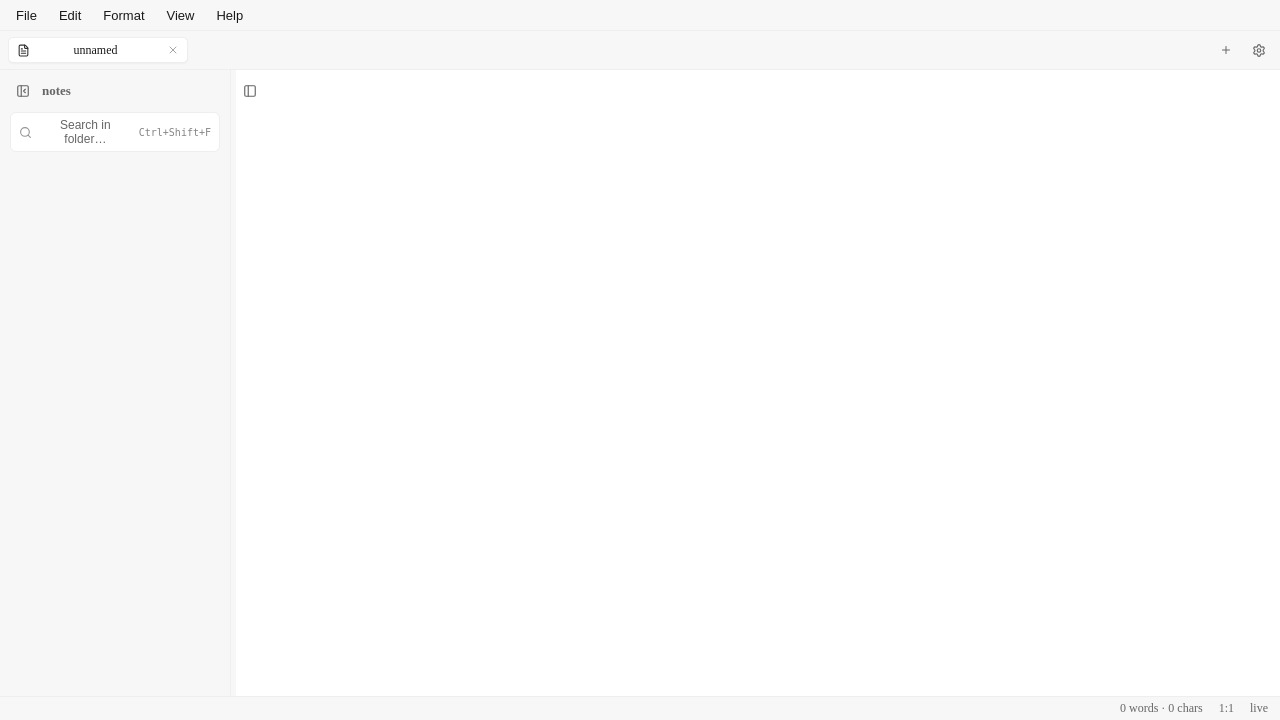
Scenario: quick open › opens via ⌘P, filters, and opens the chosen file
Press p
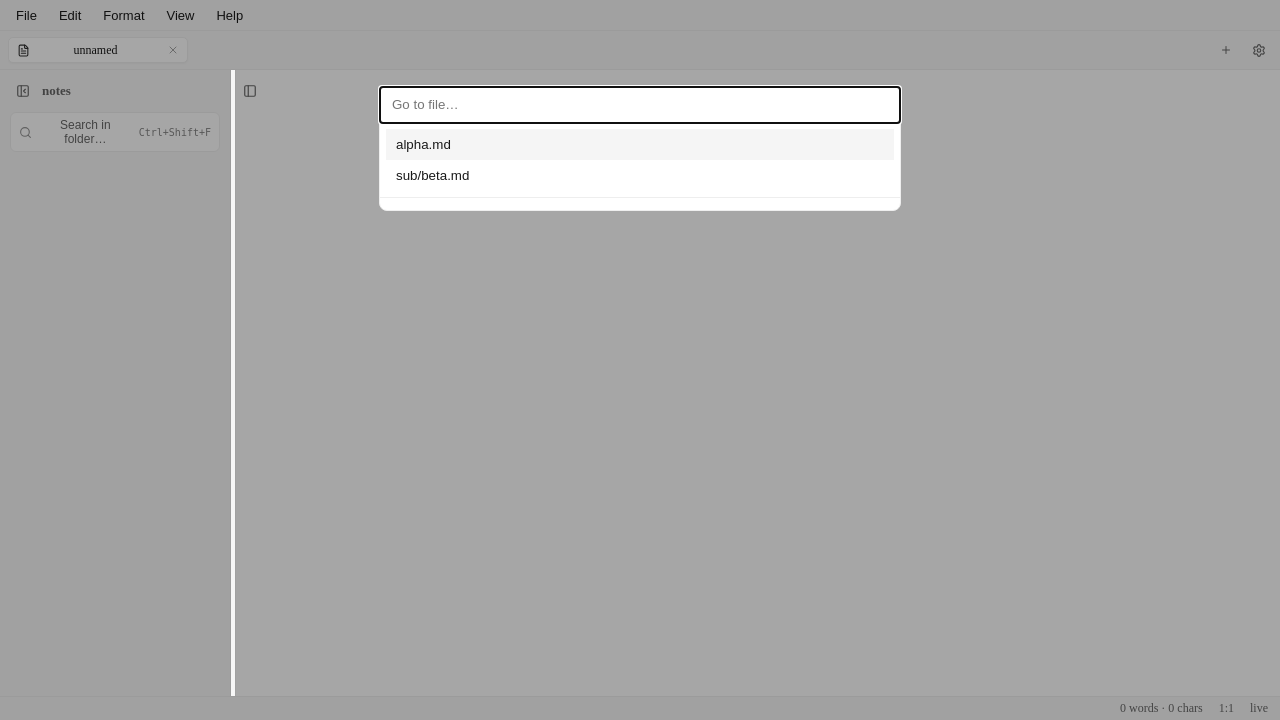
Type "beta" into the field labelled "Go to file…".
click(640, 105); type("beta")  # box [380,87,900,123]
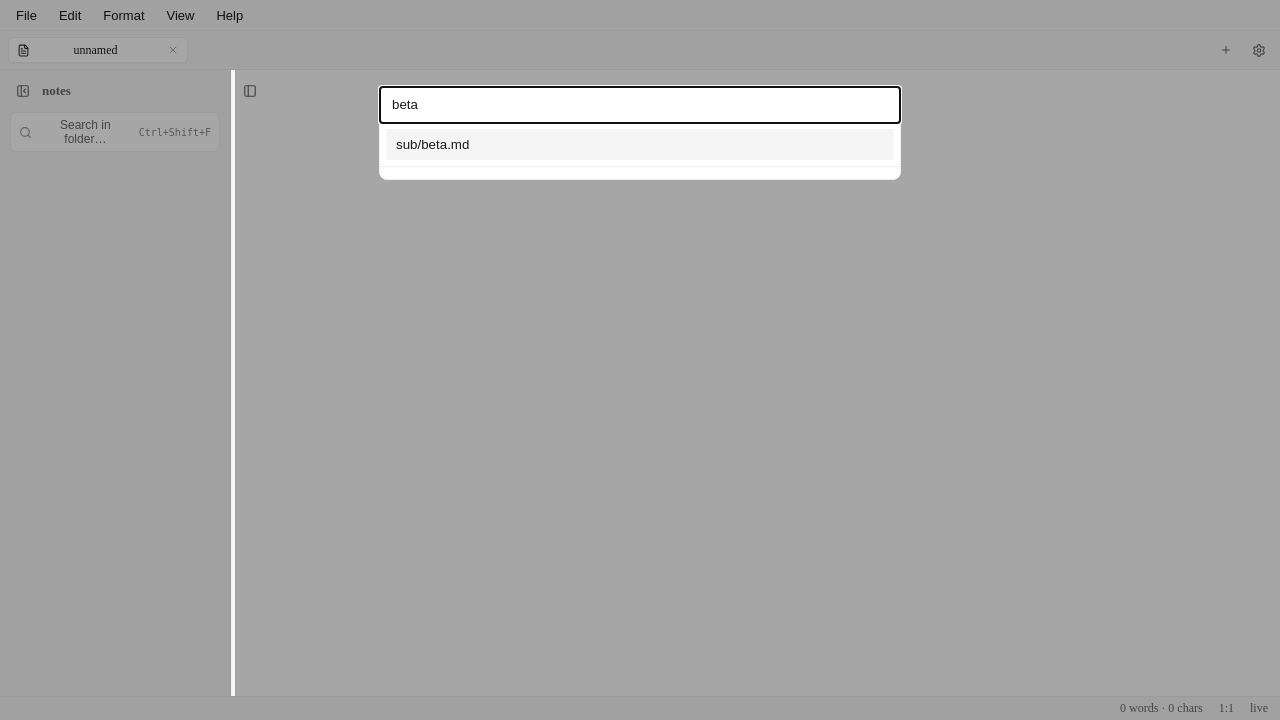
Press Enter in the field named "Go to file…", box [380,87,900,123]
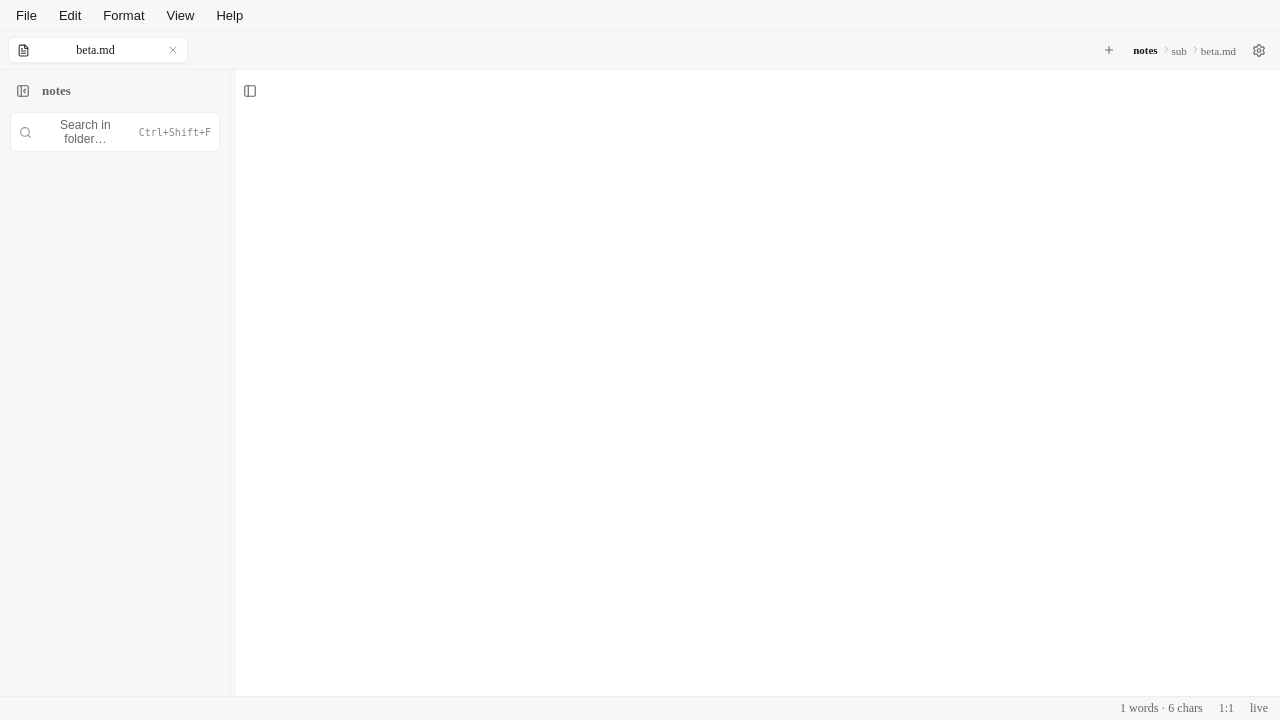
Result: the 1st text "beta.md" is shown at [76,42,115,56]
